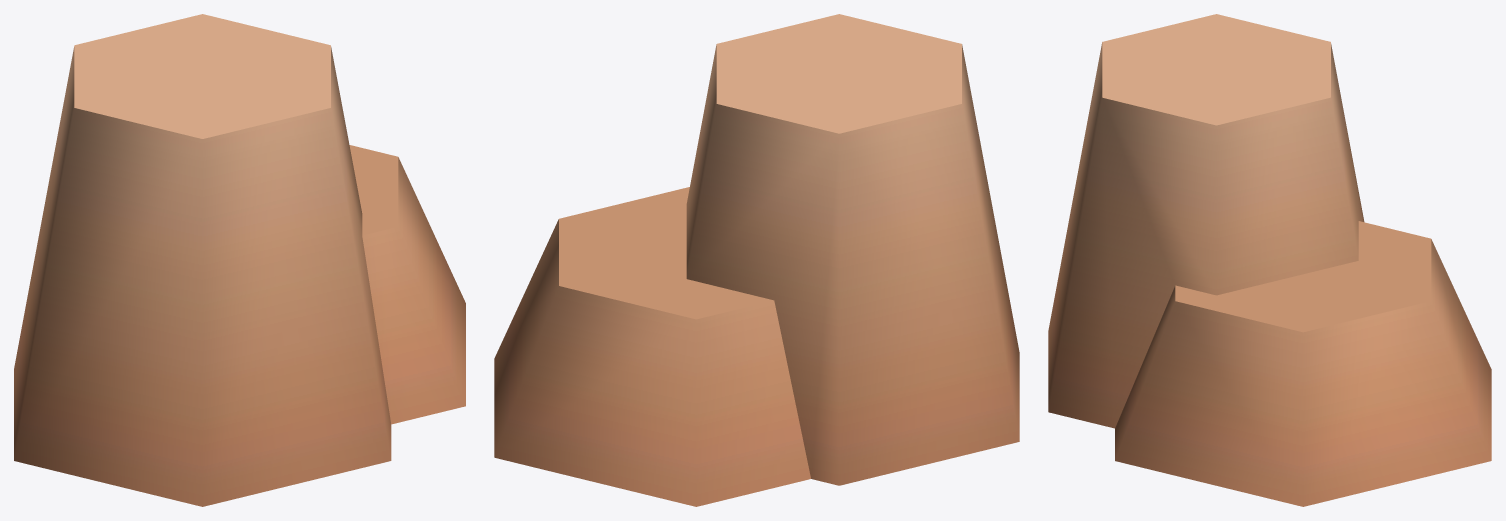
Rendered from stone_pile.glb.
3 views of the same model, side by side, from view 1: azimuth 30°, elevation 25°; view 2: azimuth 150°, elevation 25°; view 3: azimuth 270°, elevation 25° (orthographic). The views are drawn at different scales.
Parts seen in each view (by area): view 1: resource-stone; view 2: resource-stone; view 3: resource-stone.
Part boxes in pixels (x1=…): resource-stone: x1=14, y1=14, x2=465, y2=506; resource-stone: x1=494, y1=14, x2=1019, y2=506; resource-stone: x1=1048, y1=14, x2=1491, y2=506.
Bounding box in the file's own units: 0.1653 × 0.1068 × 0.1422.
1 material, 1 textured.
